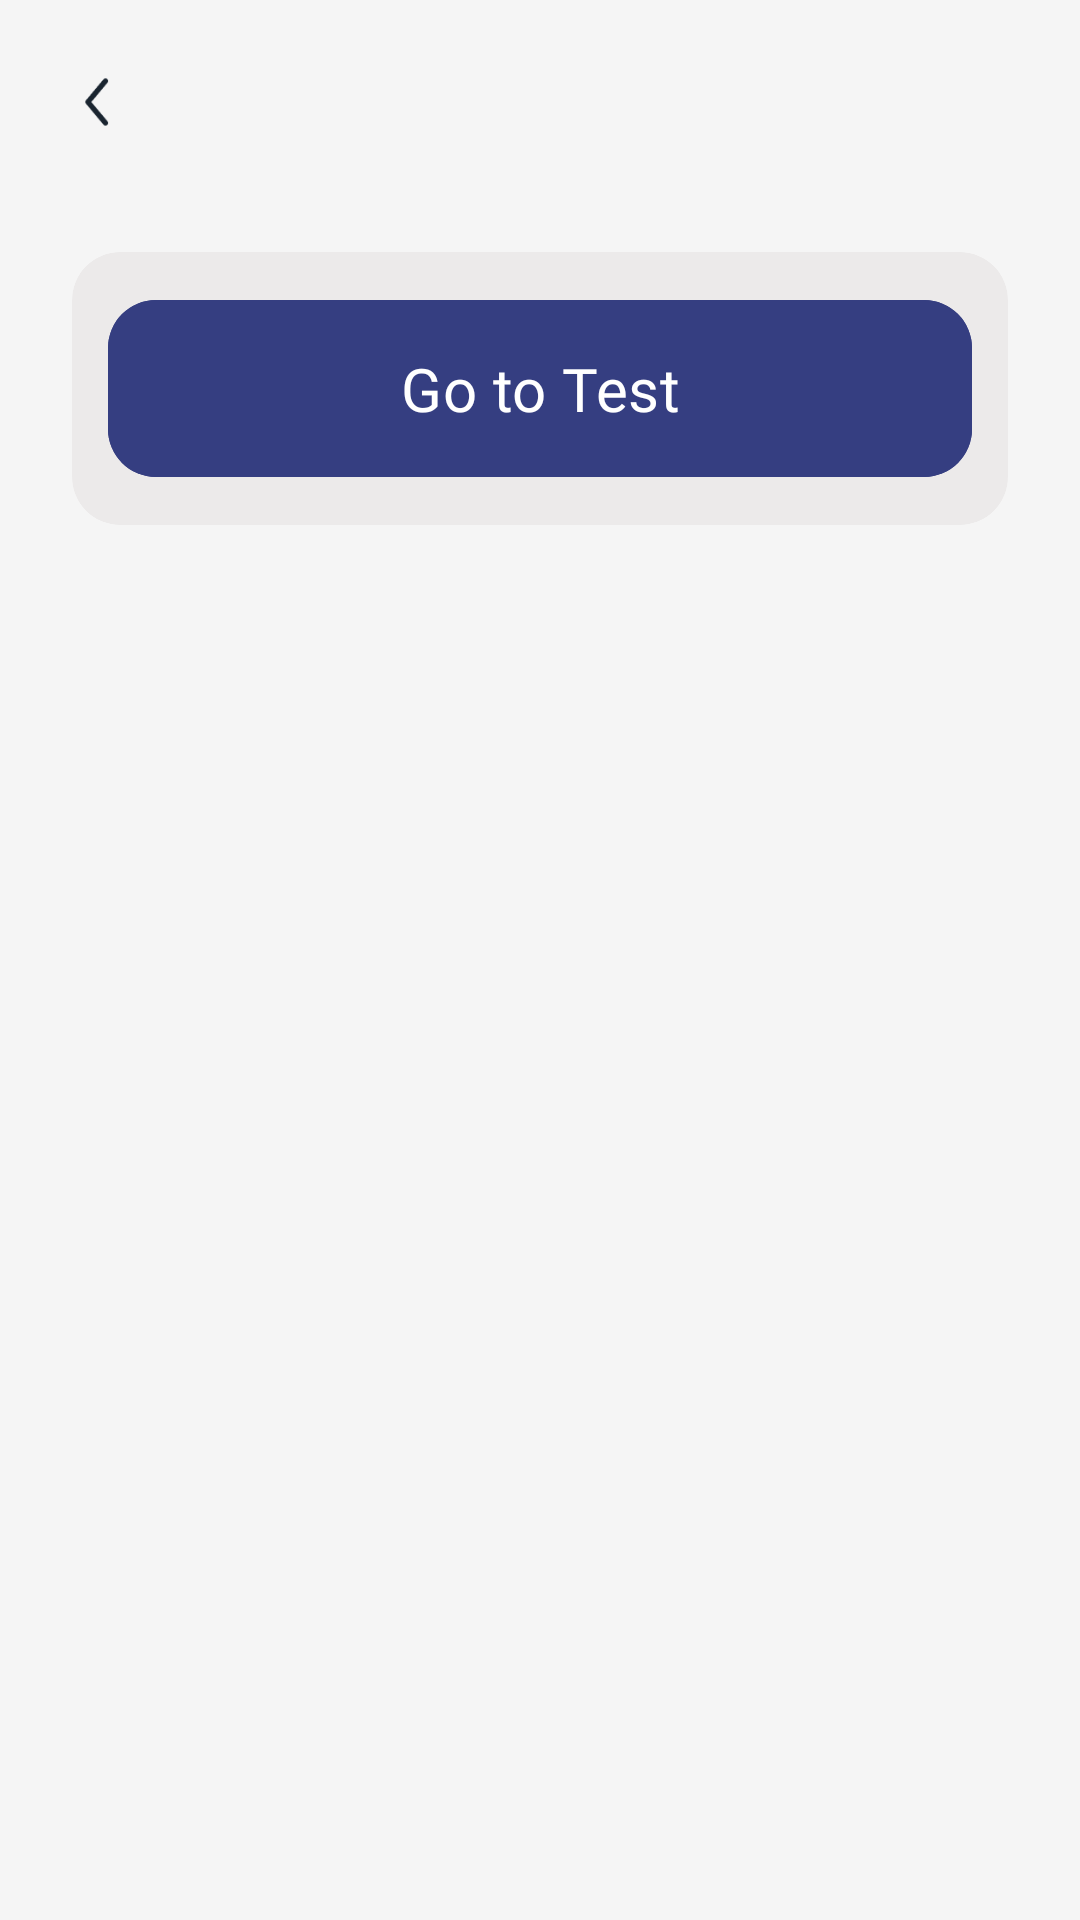

Icon click points for this 1080×1920 phone screenshot, format (x,y):
back: (96,102)
